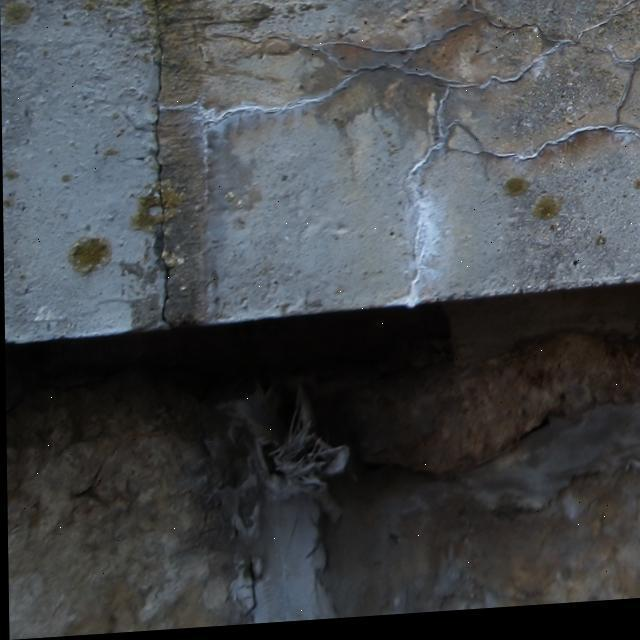D01: (174, 98, 318, 149), (402, 166, 446, 309)
